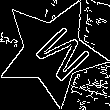M_SW: (18, 18, 87, 86)
